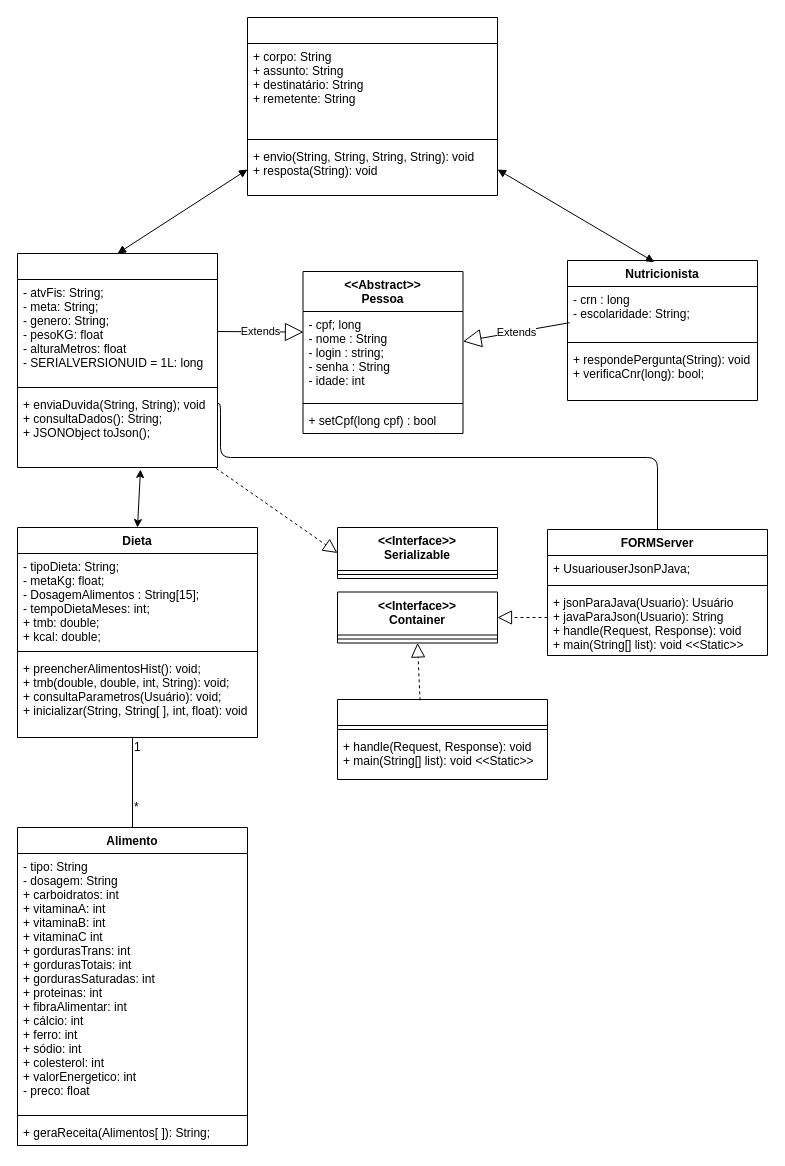
Some shapes in this 785 by 1166 pixel diagram are drawn without their labels. Here are the shapes that lost their labels. From the top down, the box of each, then its label:
(246, 16, 498, 196): Mensagem
(16, 252, 218, 468): Usuário
(336, 698, 548, 780): HTTPServer
